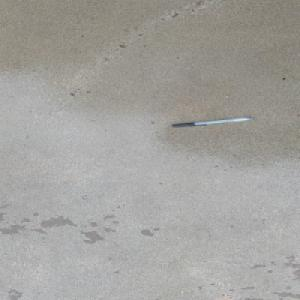Pen: (170, 116, 254, 128)
